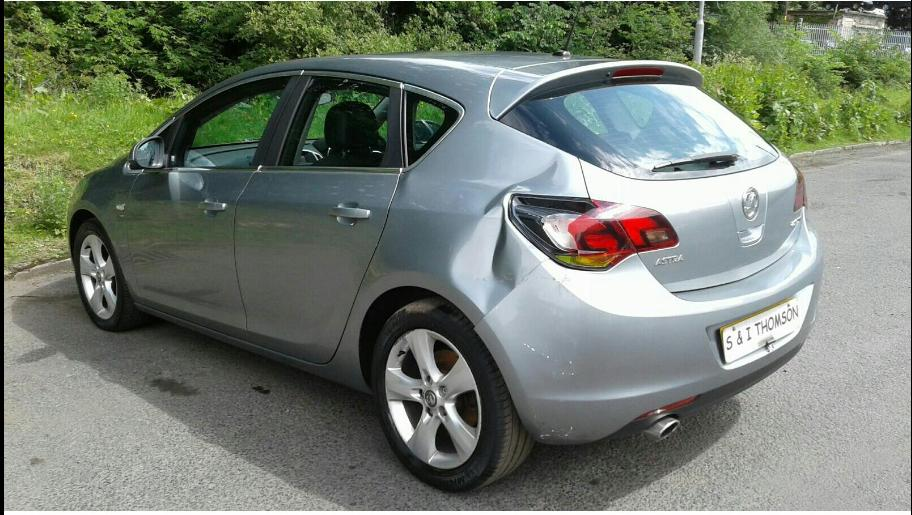Back-bumper: (474, 208, 823, 446)
Back-door: (235, 70, 406, 364)
Back-wheel: (374, 301, 534, 494)
Back-window: (278, 77, 389, 167), (407, 93, 456, 163)
Back-windshield: (499, 76, 779, 181)
Fender: (68, 156, 143, 304)
Front-door: (125, 74, 302, 340)
Front-wheel: (73, 217, 150, 332)
Front-window: (156, 76, 291, 167)
License-plate: (722, 298, 799, 362)
Mirror: (128, 136, 165, 168)
Quarter-panel: (322, 173, 551, 395)
Rocker-panel: (135, 302, 327, 378)
Roof: (252, 51, 621, 116)
Tail-light: (509, 195, 676, 273), (795, 173, 808, 211)
Trunk: (489, 60, 804, 294)
